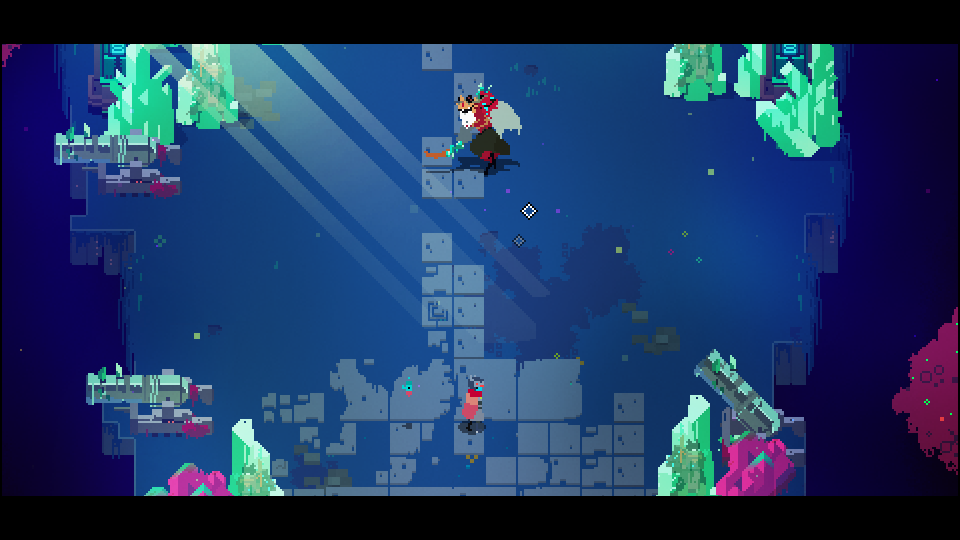hanged_man: (444, 88, 518, 170)
player: (462, 377, 484, 433)
